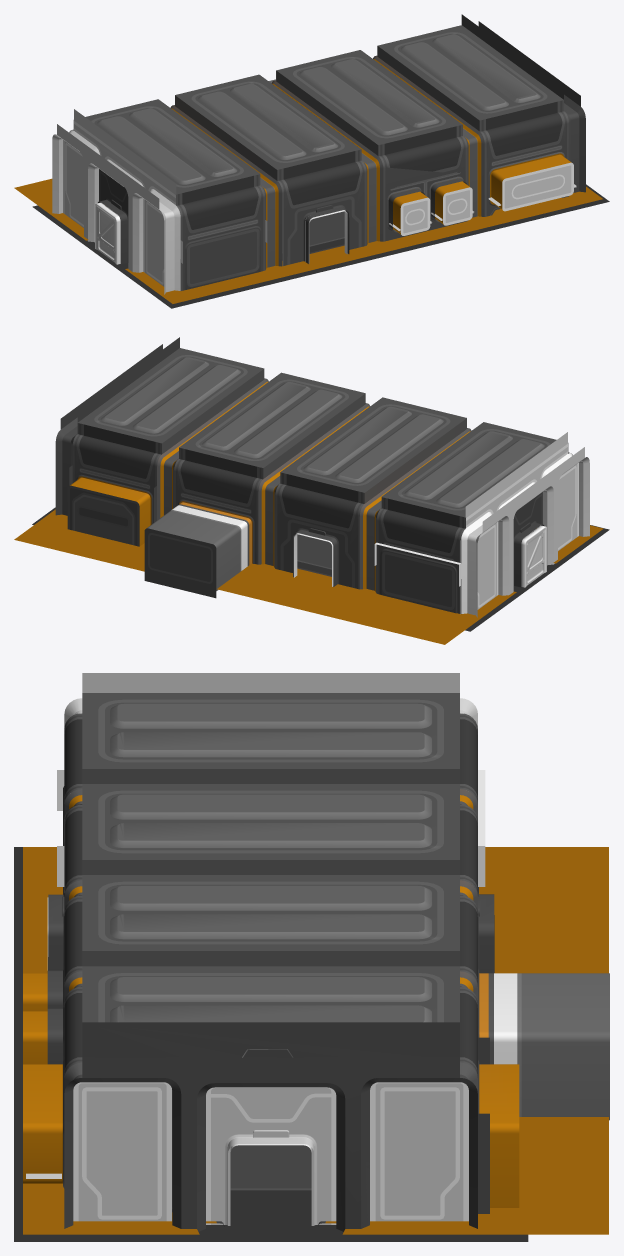
File: level_lobby.fbx
3 views of the same model, one above another, from view 1: azimuth 30°, elevation 25°; view 2: azimuth 150°, elevation 25°; view 3: azimuth 270°, elevation 25° (orthographic). The views are drawn at different scales.
Parts seen in each view (by area): view 1: X300cm_Y300cm_Z0.031, Column_low.001, Plane.010, Plane.002, Plane.001, Plane.005, X300cm_Y300cm_Z0.024, X300cm_Y300cm_Z0.025, Cube.005, Column_low.002, Column_low.005, Column_low.003 (+6 smaller); view 2: X300cm_Y300cm_Z0.031, X300cm_Y300cm_Z0.024, Column_low.001, Plane.002, Plane.010, Plane.001, Plane.005, X300cm_Y300cm_Z0.026, Door.002_low.004, Column_low.002, Column_low.005, Column_low.003 (+7 smaller); view 3: Column_low.005, X300cm_Y300cm_Z0.024, Plane.001, Plane.002, Plane.005, Door.002_low.004, Plane.010, X300cm_Y300cm_Z0.031, Cube.005, Plane.003, Plane.023, Plane.034 (+6 smaller).
Part boxes in pixels (x1=…): X300cm_Y300cm_Z0.031: x1=69, y1=55, x2=568, y2=290; Column_low.001: x1=52, y1=109, x2=180, y2=294; Plane.010: x1=378, y1=25, x2=563, y2=120; Plane.002: x1=175, y1=74, x2=361, y2=169; Plane.001: x1=276, y1=50, x2=462, y2=145; Plane.005: x1=85, y1=99, x2=259, y2=194; X300cm_Y300cm_Z0.024: x1=14, y1=178, x2=602, y2=303; X300cm_Y300cm_Z0.025: x1=400, y1=162, x2=573, y2=235; Cube.005: x1=32, y1=182, x2=609, y2=308; Column_low.002: x1=271, y1=71, x2=383, y2=244; Column_low.005: x1=461, y1=14, x2=585, y2=192; Column_low.003: x1=170, y1=95, x2=281, y2=269; X300cm_Y300cm_Z0.031: x1=69, y1=378, x2=572, y2=613; X300cm_Y300cm_Z0.024: x1=14, y1=509, x2=603, y2=644; Column_low.001: x1=460, y1=432, x2=589, y2=617; Plane.002: x1=280, y1=397, x2=466, y2=492; Plane.010: x1=78, y1=348, x2=263, y2=443; Plane.001: x1=179, y1=372, x2=365, y2=467; Plane.005: x1=381, y1=422, x2=556, y2=517; X300cm_Y300cm_Z0.026: x1=67, y1=485, x2=216, y2=598; Door.002_low.004: x1=70, y1=476, x2=252, y2=590; Column_low.002: x1=258, y1=393, x2=370, y2=568; Column_low.005: x1=55, y1=337, x2=179, y2=515; Column_low.003: x1=359, y1=418, x2=471, y2=592; Column_low.005: x1=64, y1=1022, x2=477, y2=1231; X300cm_Y300cm_Z0.024: x1=23, y1=847, x2=608, y2=1234; Plane.001: x1=82, y1=875, x2=459, y2=950; Plane.002: x1=82, y1=784, x2=459, y2=859; Plane.005: x1=82, y1=693, x2=459, y2=768; Door.002_low.004: x1=23, y1=973, x2=609, y2=1207; Plane.010: x1=82, y1=966, x2=459, y2=1022; X300cm_Y300cm_Z0.031: x1=47, y1=713, x2=494, y2=1213; Cube.005: x1=14, y1=847, x2=528, y2=1241; Plane.003: x1=73, y1=1082, x2=171, y2=1221; Plane.023: x1=370, y1=1082, x2=468, y2=1221; Plane.034: x1=206, y1=1087, x2=336, y2=1225.
Bounding box in the file's own units: 2598 × 638 × 1657.
